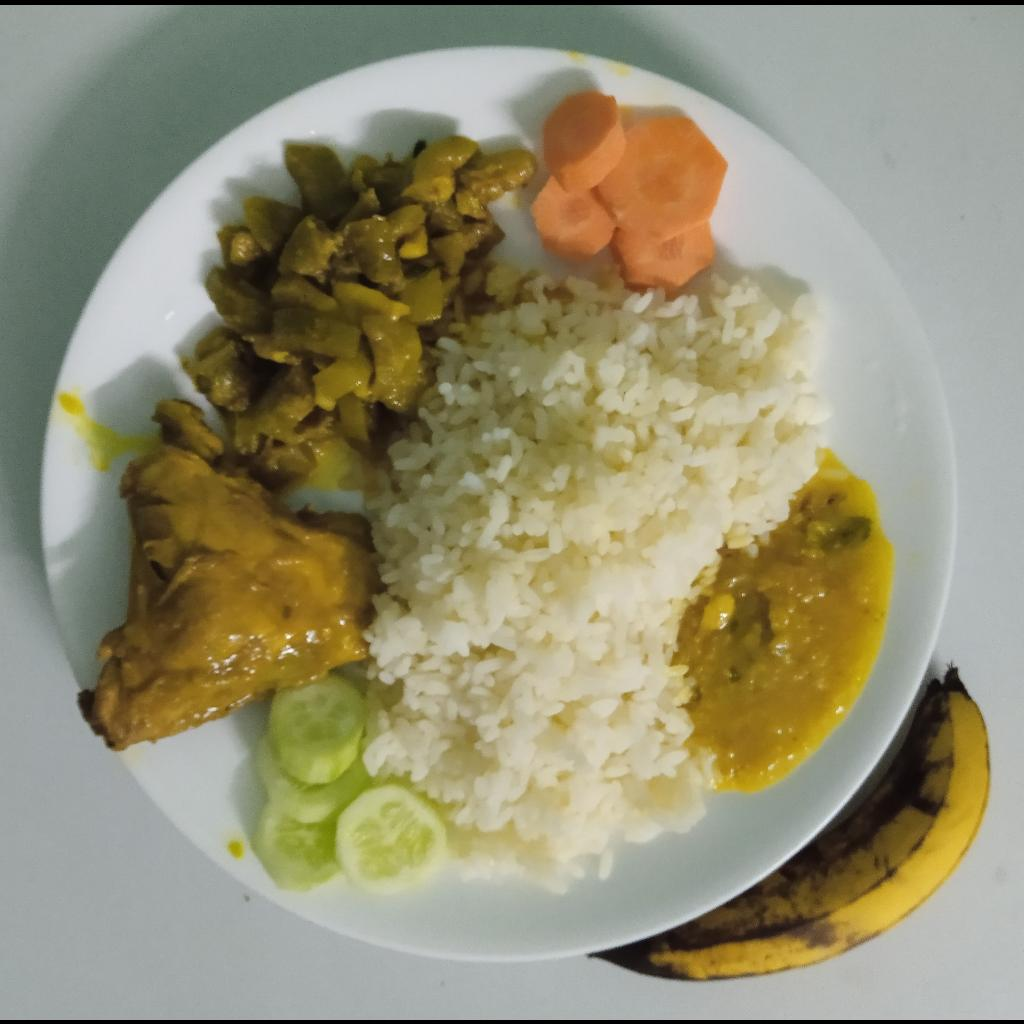banana: (588, 667, 990, 982)
carrot: (530, 88, 730, 290)
chicken: (73, 399, 372, 754)
cucumber: (252, 674, 448, 895)
daal: (685, 445, 895, 795)
dundol: (182, 134, 539, 484)
rice: (368, 265, 827, 896)
